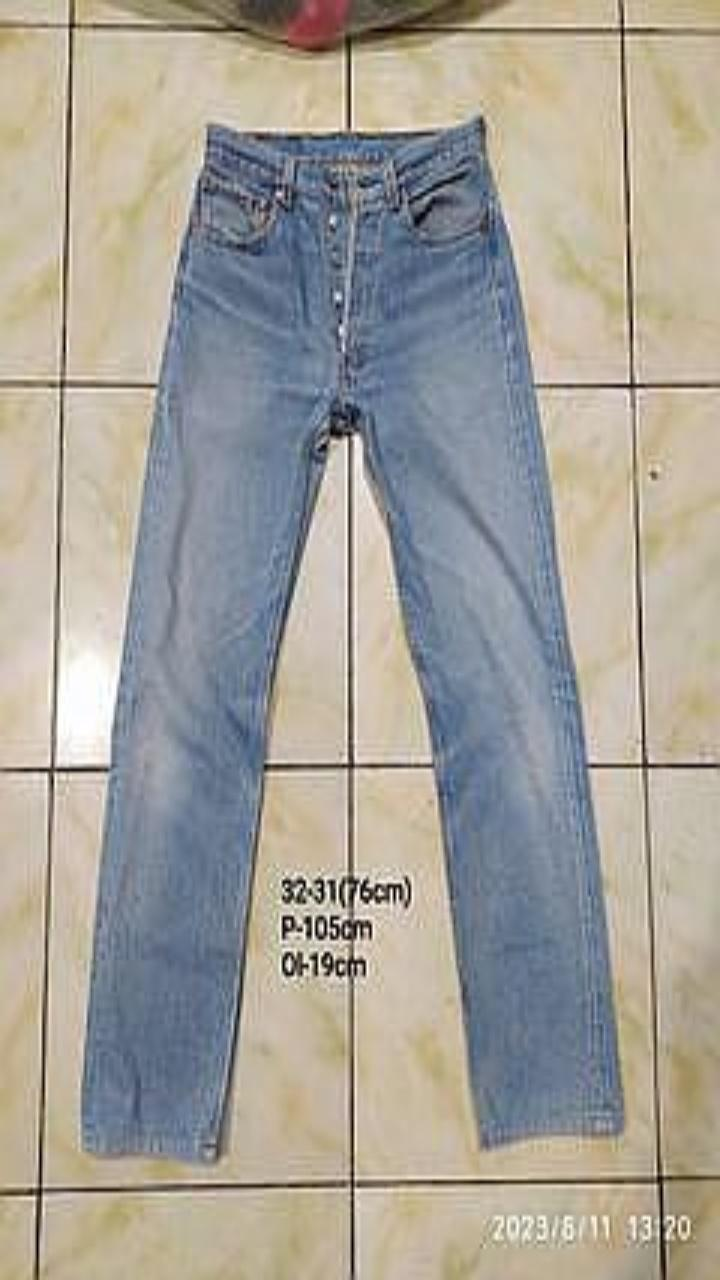Jeans: (81, 116, 623, 1160)
